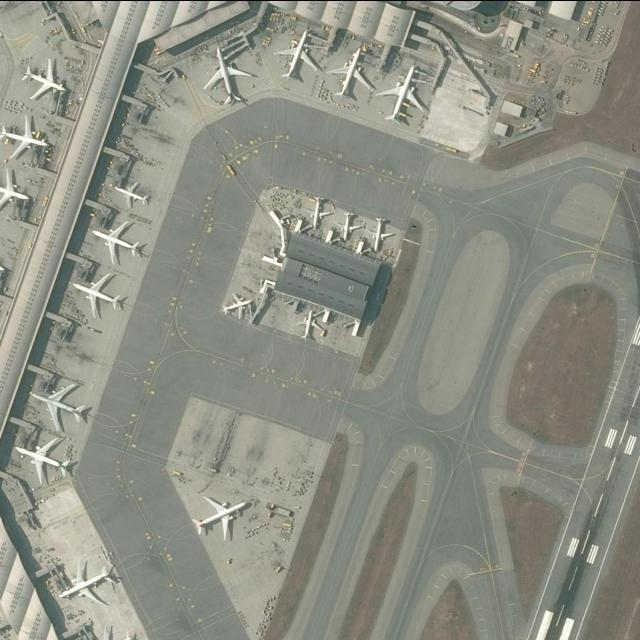Aircraft: (202, 43, 259, 109), (31, 377, 91, 434), (377, 61, 429, 125), (14, 437, 74, 489), (275, 26, 325, 84), (192, 494, 252, 542), (59, 559, 120, 605), (326, 43, 372, 103), (0, 113, 52, 162), (74, 273, 125, 321), (91, 220, 144, 265), (20, 55, 70, 101), (0, 168, 34, 217), (113, 178, 153, 211), (217, 289, 257, 321), (365, 214, 397, 254), (333, 205, 362, 243), (304, 191, 331, 231), (297, 309, 327, 341), (87, 625, 144, 640)
